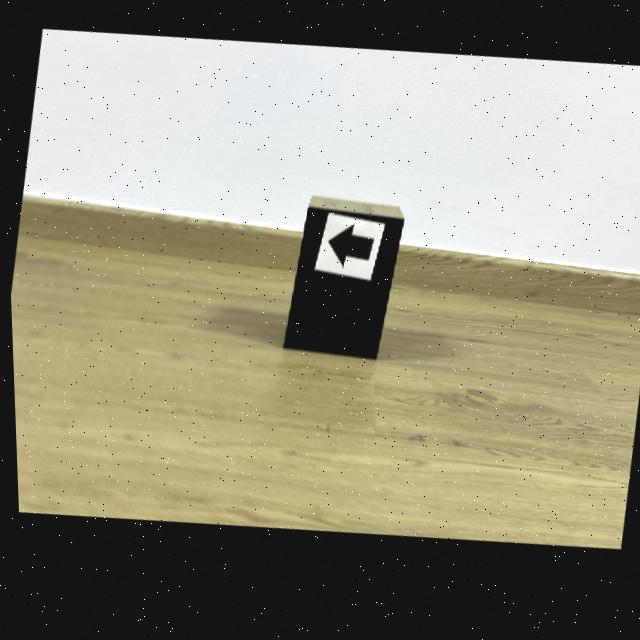LEFT: (327, 233, 371, 273)
